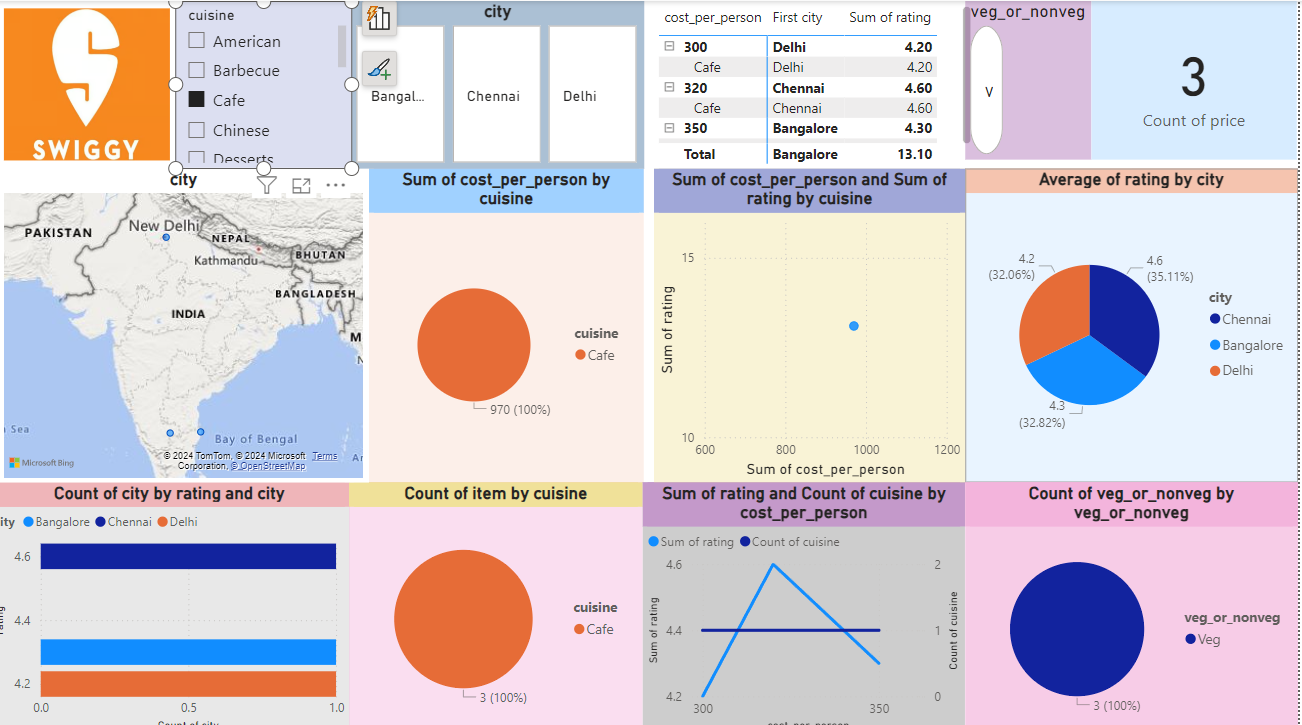

The dashboard page shown, as its layout file describes it:
{"tool":"powerbi","page":{"name":"Page 1","canvas":[1280,720],"ordinal":0},"visuals":[{"type":"image","box":[10,0,172.1,163.6],"z":0},{"type":"barChart","fields":{"Category":["22  Swiggy_csv.rating"],"Y":["CountNonNull(22  Swiggy_csv.city)"],"Series":["22  Swiggy_csv.city"]},"box":[0,470.8,352.7,248.9],"z":1},{"type":"pieChart","fields":{"Category":["22  Swiggy_csv.cuisine"],"Y":["CountNonNull(22  Swiggy_csv.item)"]},"box":[352.7,470.8,287.3,248.9],"z":2},{"type":"map","fields":{"Category":["22  Swiggy_csv.city","22  Swiggy_csv.rating","22  Swiggy_csv.cost_per_person"]},"box":[10,163.6,361.2,307.2],"z":3},{"type":"pieChart","fields":{"Category":["22  Swiggy_csv.cuisine"],"Y":["Sum(22  Swiggy_csv.cost_per_person)"]},"box":[371.2,163.6,268.8,307.2],"z":4},{"type":"slicer","fields":{"Values":["22  Swiggy_csv.cuisine"]},"box":[182,0,172.1,163.6],"z":5},{"type":"advancedSlicerVisual","fields":{"Values":["22  Swiggy_csv.city"]},"box":[354.6,0,286.1,163.9],"z":6},{"type":"pivotTable","fields":{"Rows":["22  Swiggy_csv.cost_per_person","22  Swiggy_csv.cuisine"],"Values":["Min(22  Swiggy_csv.city)","Sum(22  Swiggy_csv.rating)"]},"box":[650.5,0,315.5,163.9],"z":7},{"type":"lineChart","fields":{"Y":["Sum(22  Swiggy_csv.rating)"],"Category":["22  Swiggy_csv.cost_per_person"],"Y2":["CountNonNull(22  Swiggy_csv.cuisine)"]},"box":[639.5,470.8,315.5,249.5],"z":8},{"type":"scatterChart","fields":{"X":["Sum(22  Swiggy_csv.cost_per_person)"],"Y":["Sum(22  Swiggy_csv.rating)"],"Category":["22  Swiggy_csv.cuisine"]},"box":[650.5,163.9,304.5,306.9],"z":9},{"type":"pieChart","fields":{"Y":["Avg(22  Swiggy_csv.rating)"],"Category":["22  Swiggy_csv.city"]},"box":[955,163.9,325.3,306.9],"z":10},{"type":"advancedSlicerVisual","fields":{"Values":["22  Swiggy_csv.veg_or_nonveg"]},"box":[955,0,123.5,155.3],"z":11},{"type":"pieChart","fields":{"Category":["22  Swiggy_csv.veg_or_nonveg"],"Y":["CountNonNull(22  Swiggy_csv.veg_or_nonveg)"]},"box":[955,470.8,325.3,249.5],"z":12},{"type":"card","fields":{"Values":["Count(22  Swiggy_csv.price)"]},"box":[1079,0,201,155],"z":13}]}

Visuals, with their boxes in screenshot pixels (x1, y1, x2, y2), scaled from the page's 1280x720 canvas onto the 1302x725 screenshot:
image: [x1=10, y1=0, x2=185, y2=165]
barChart - 22  Swiggy_csv.rating x CountNonNull(22  Swiggy_csv.city): [x1=0, y1=474, x2=359, y2=724]
pieChart - 22  Swiggy_csv.cuisine x CountNonNull(22  Swiggy_csv.item): [x1=359, y1=474, x2=651, y2=724]
map - 22  Swiggy_csv.city x 22  Swiggy_csv.rating: [x1=10, y1=165, x2=378, y2=474]
pieChart - 22  Swiggy_csv.cuisine x Sum(22  Swiggy_csv.cost_per_person): [x1=378, y1=165, x2=651, y2=474]
slicer - 22  Swiggy_csv.cuisine: [x1=185, y1=0, x2=360, y2=165]
advancedSlicerVisual - 22  Swiggy_csv.city: [x1=361, y1=0, x2=652, y2=165]
pivotTable - 22  Swiggy_csv.cost_per_person x 22  Swiggy_csv.cuisine: [x1=662, y1=0, x2=983, y2=165]
lineChart - Sum(22  Swiggy_csv.rating) x 22  Swiggy_csv.cost_per_person: [x1=650, y1=474, x2=971, y2=724]
scatterChart - Sum(22  Swiggy_csv.cost_per_person) x Sum(22  Swiggy_csv.rating): [x1=662, y1=165, x2=971, y2=474]
pieChart - Avg(22  Swiggy_csv.rating) x 22  Swiggy_csv.city: [x1=971, y1=165, x2=1301, y2=474]
advancedSlicerVisual - 22  Swiggy_csv.veg_or_nonveg: [x1=971, y1=0, x2=1097, y2=156]
pieChart - 22  Swiggy_csv.veg_or_nonveg x CountNonNull(22  Swiggy_csv.veg_or_nonveg): [x1=971, y1=474, x2=1301, y2=724]
card - Count(22  Swiggy_csv.price): [x1=1098, y1=0, x2=1301, y2=156]
